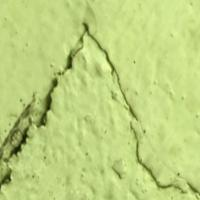crack: (0, 17, 95, 199)
